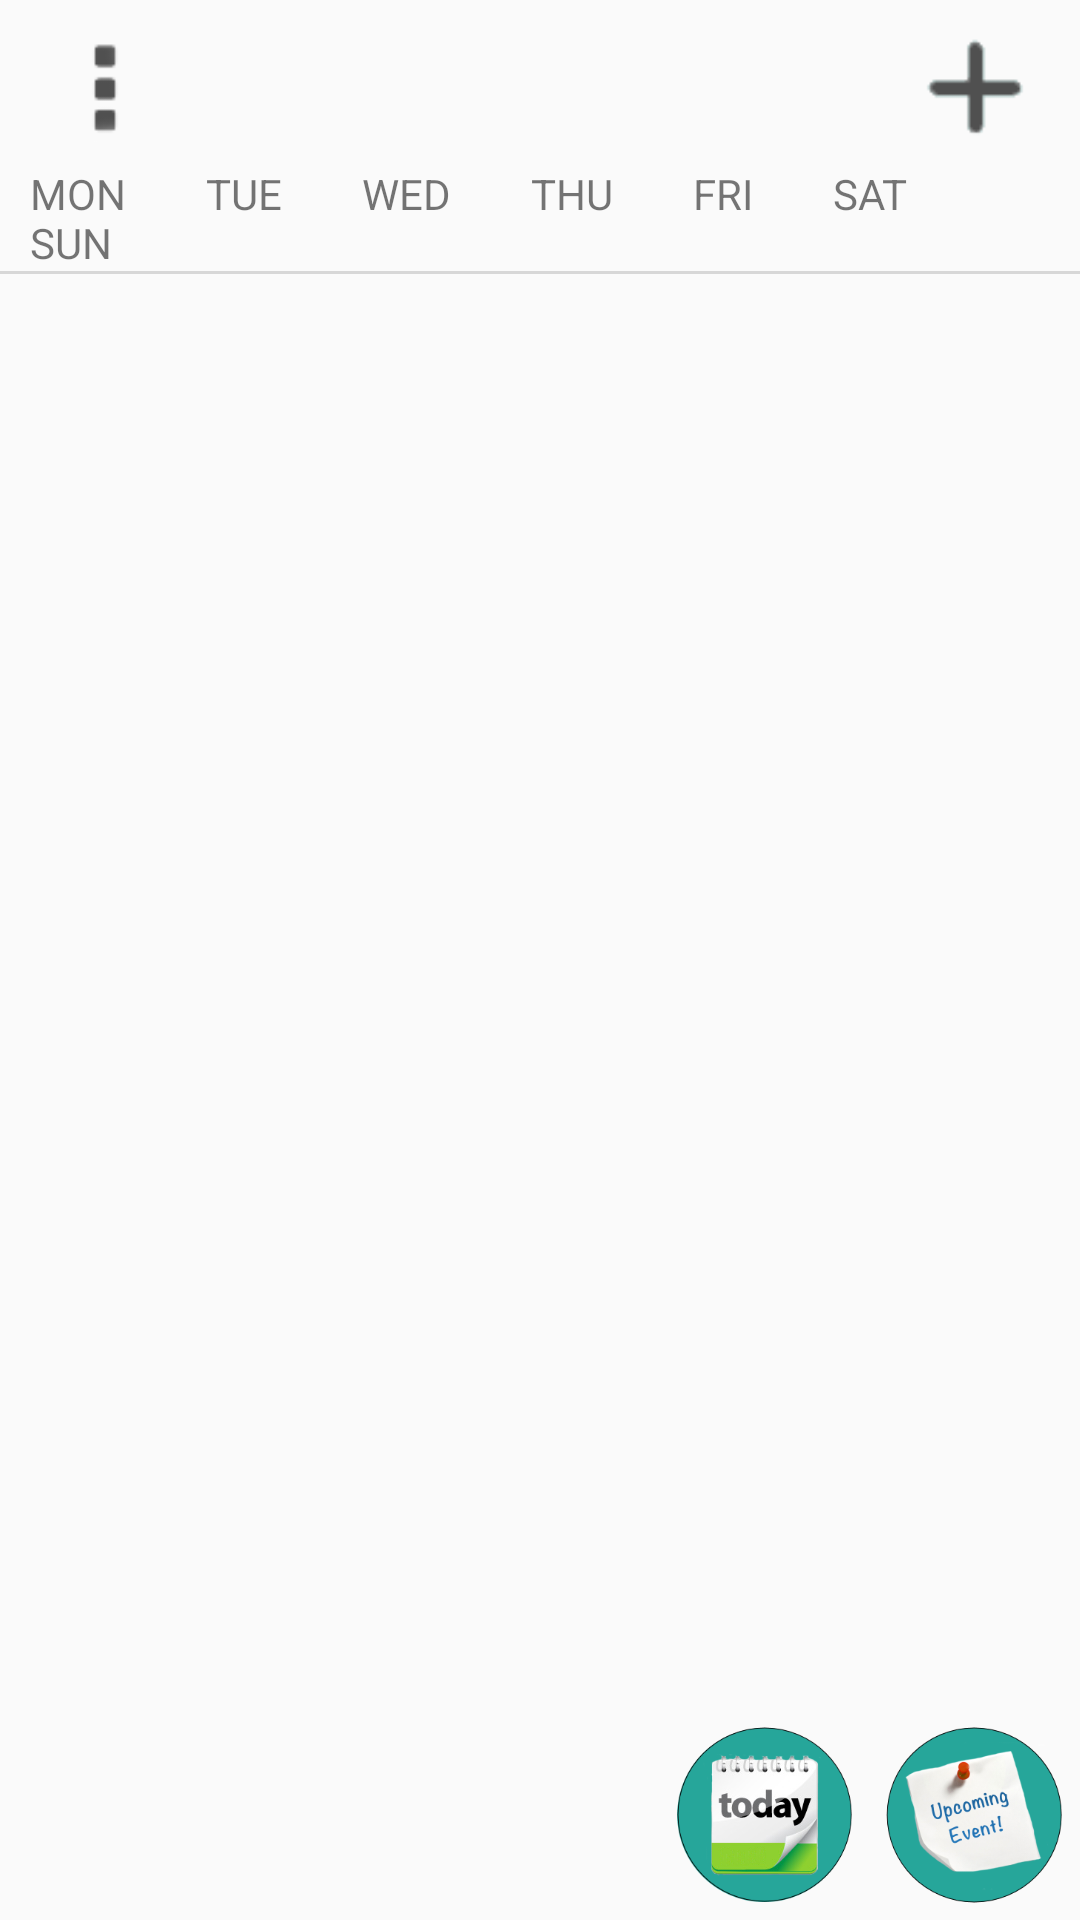

Named icons in this screenshot (1080*1920) and their bounding boxes, (x1, y1, x2, y2):
add: (928, 40, 1022, 133)
settings: (94, 44, 116, 131)
